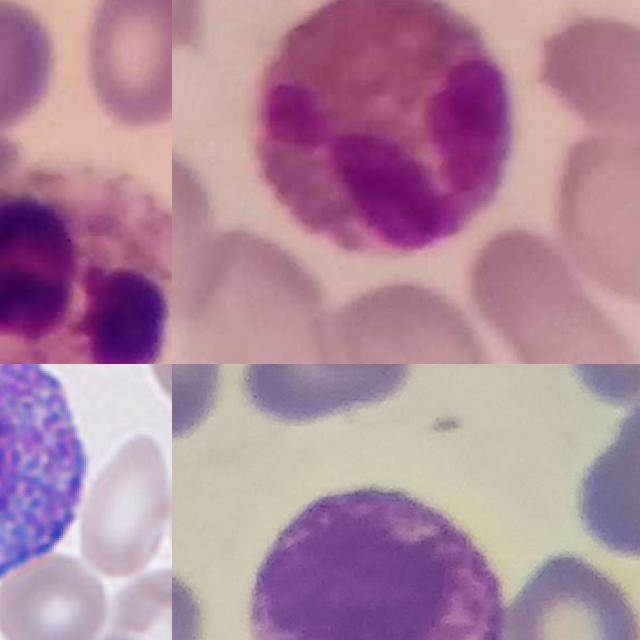Basophil: (253, 485, 510, 640)
Eosinophil: (252, 0, 515, 264)
Lymphocyte: (0, 364, 104, 600)
Neutrophil: (0, 167, 172, 364)
RBC: (71, 426, 172, 580), (0, 547, 112, 640), (105, 568, 172, 640)
